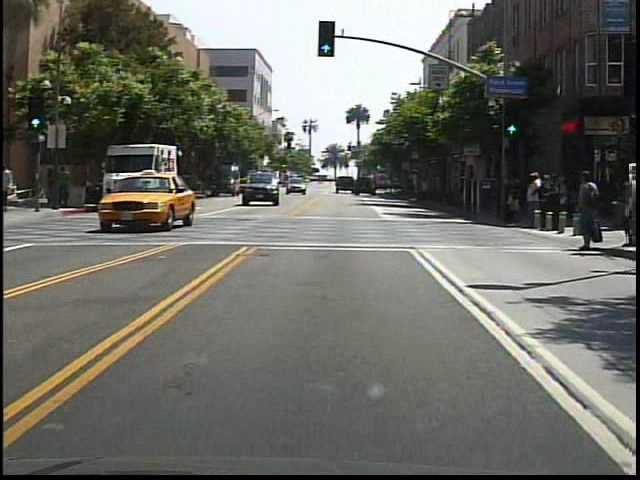person: (569, 169, 604, 255), (524, 166, 542, 226), (58, 164, 74, 208), (47, 167, 60, 209)
